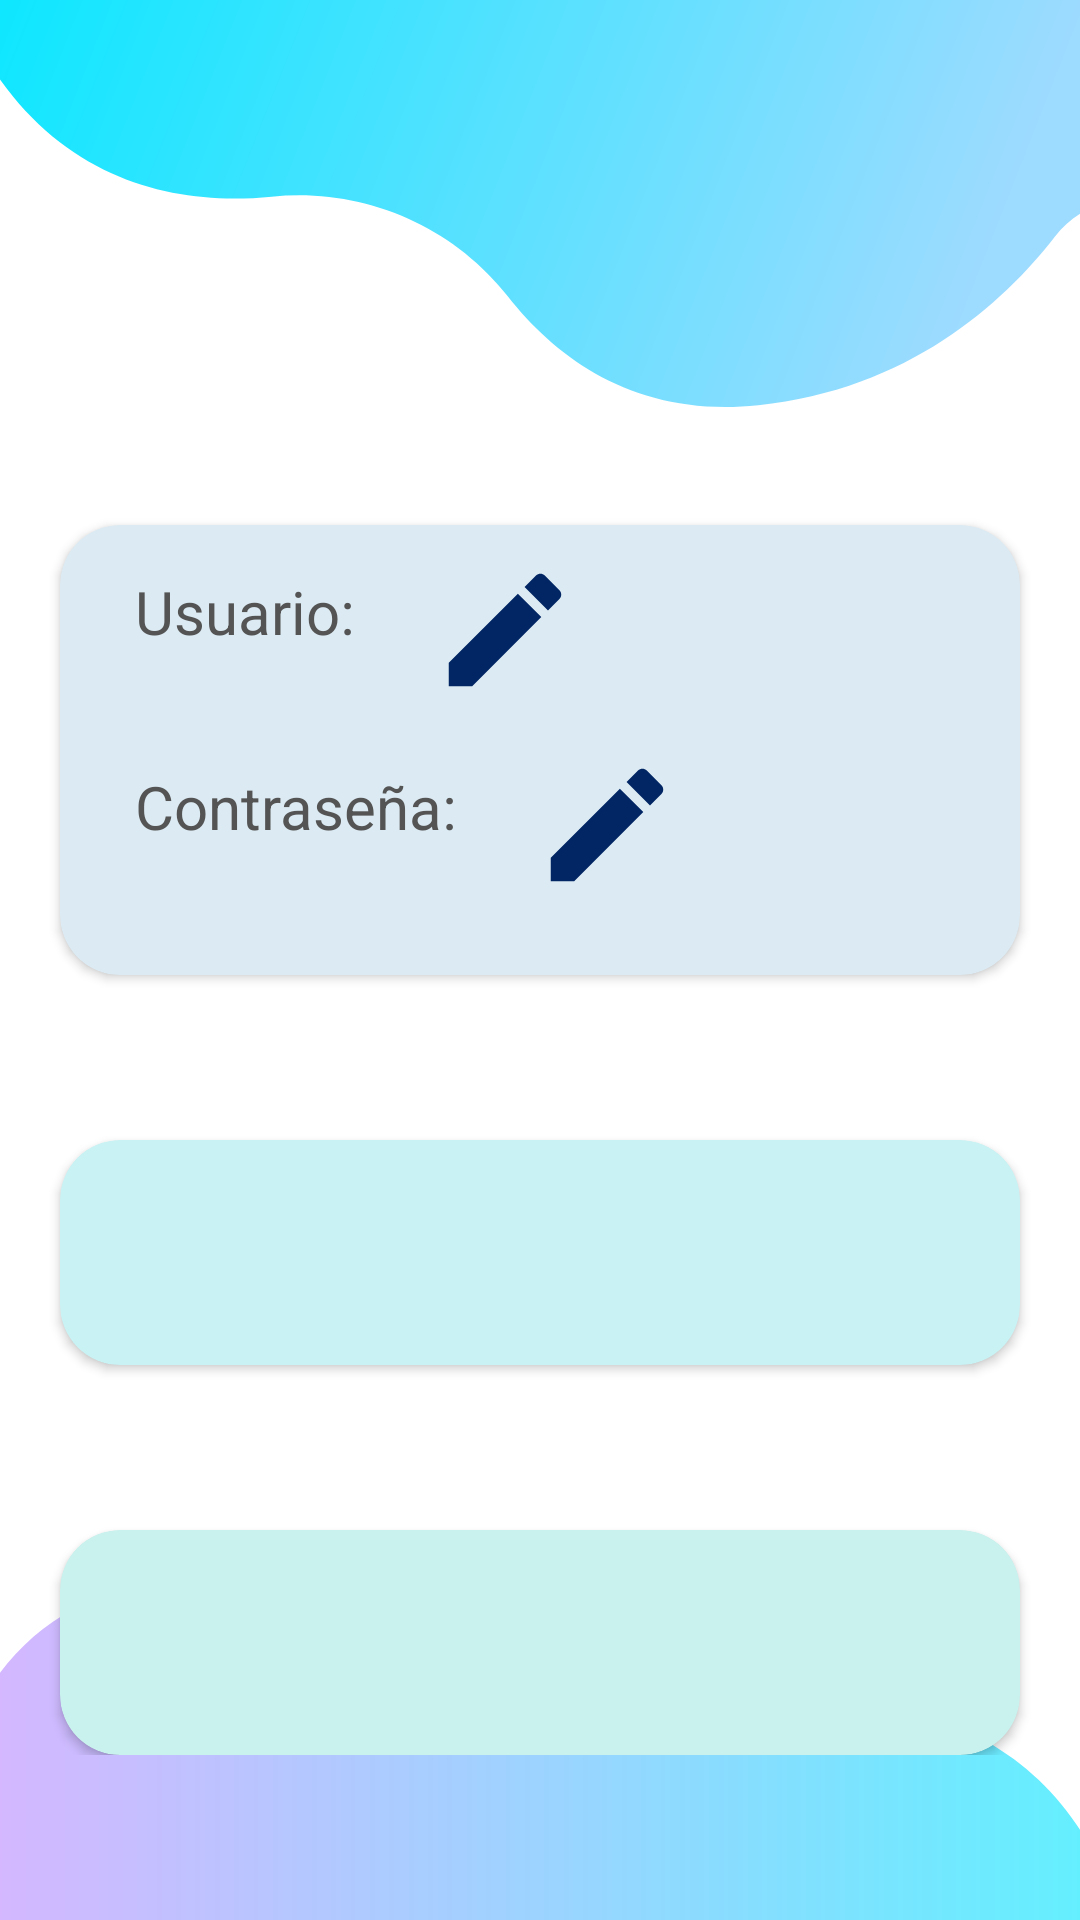

Icon click points for this 1080px×1920px phone screenshot, format [x,y]:
edit: [505,630], [607,825]
